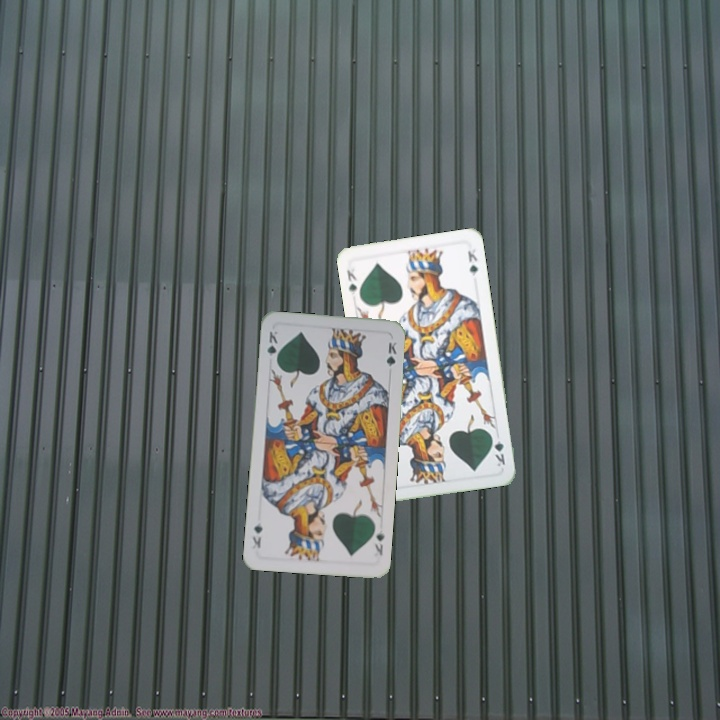GK: (487, 430, 508, 469), (263, 327, 280, 366), (369, 525, 387, 558), (343, 264, 359, 297)
